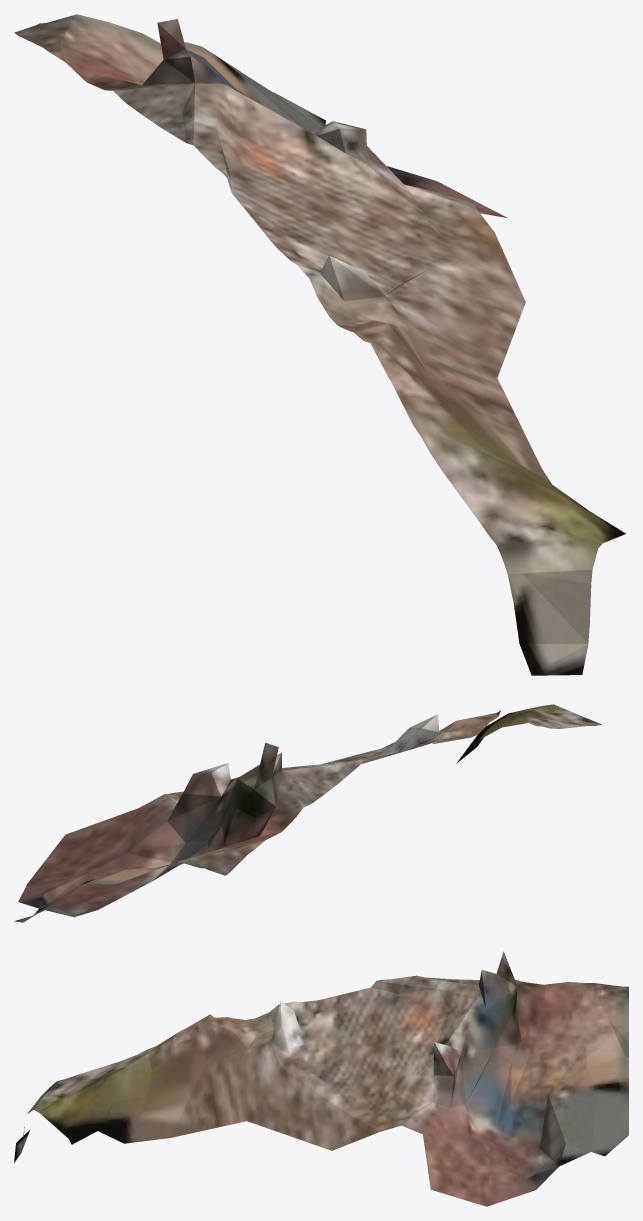
3 renders of one model, top to bottom at view 1: azimuth 30°, elevation 25°; view 2: azimuth 150°, elevation 25°; view 3: azimuth 270°, elevation 25°, orthographic. The views are drawn at different scales.
Size of the model in its own units: 6.86 by 6.18 by 16.5.
1 material, 1 textured.
